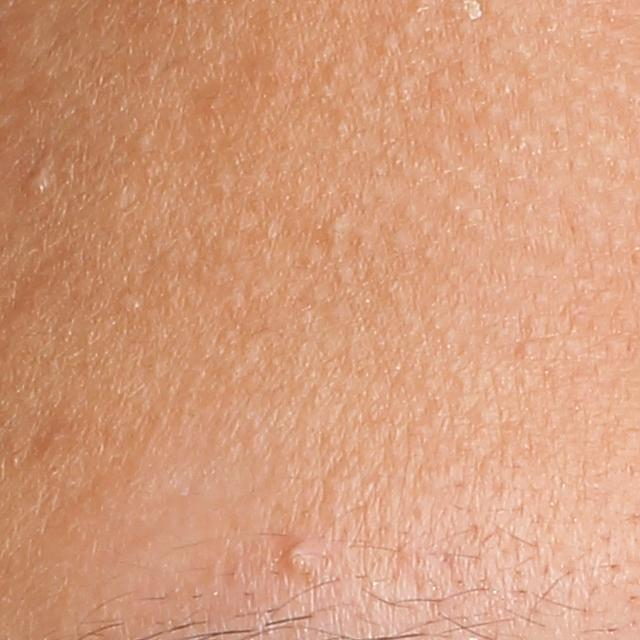comedo: (318, 210, 356, 247), (25, 167, 56, 202), (513, 338, 542, 361), (132, 130, 159, 151), (326, 60, 346, 81)
